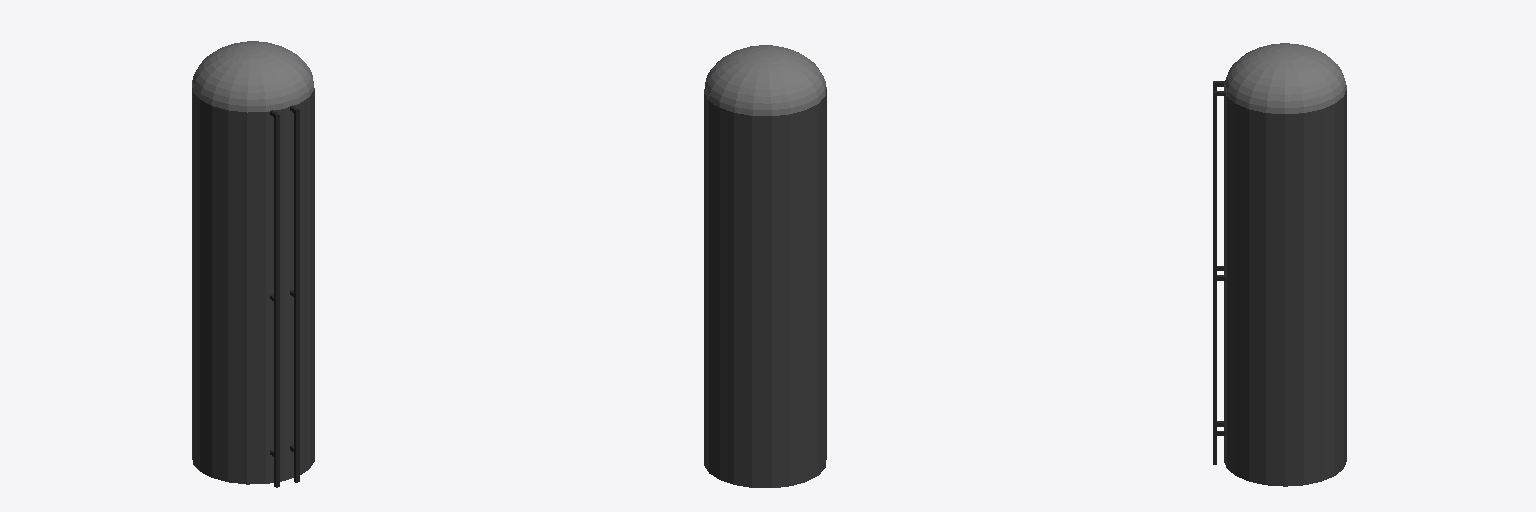
The model's file is Silo.obj.
The picture shows the model from 3 angles: view 1: azimuth 30°, elevation 25°; view 2: azimuth 150°, elevation 25°; view 3: azimuth 270°, elevation 25°; orthographic projection.
Parts seen in each view (by area): view 1: pCylinder11; view 2: pCylinder11; view 3: pCylinder11.
Part boxes in pixels (bbox=[...]): pCylinder11: bbox=[192, 41, 314, 487]; pCylinder11: bbox=[704, 45, 826, 487]; pCylinder11: bbox=[1213, 43, 1346, 486].
Bounding box in the file's own units: 6 × 21.99 × 6.52.